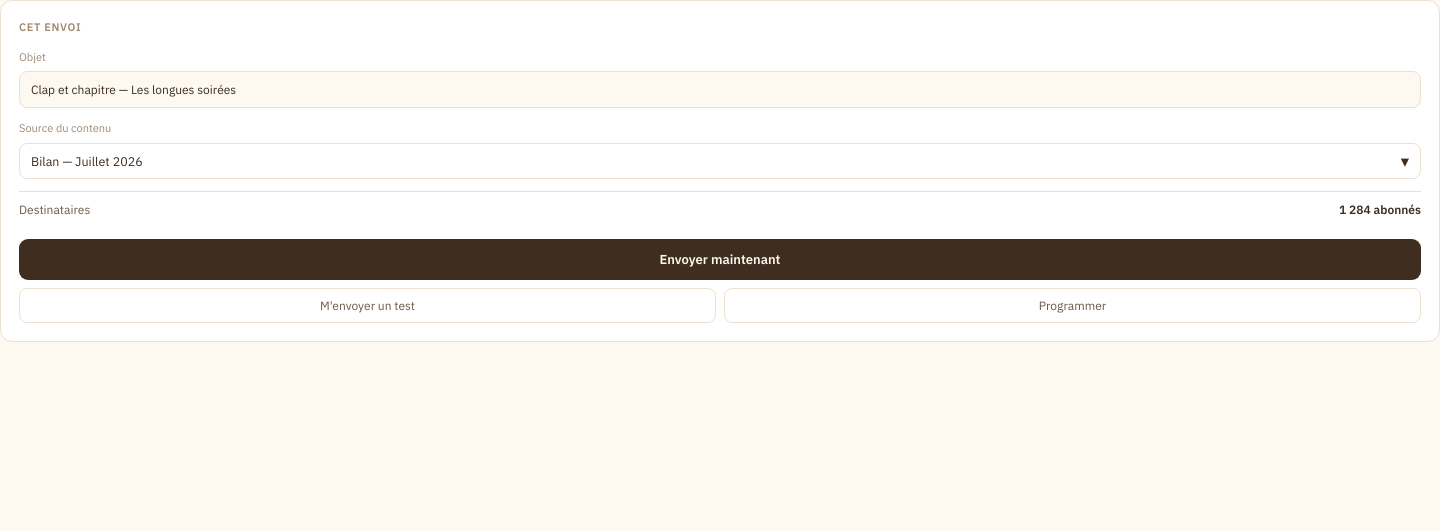
AN-3 newsletter panels › surfaces a server-side test error once the test form is open
Click the button "M'envoyer un test" at (368, 306), box [19,288,716,323]
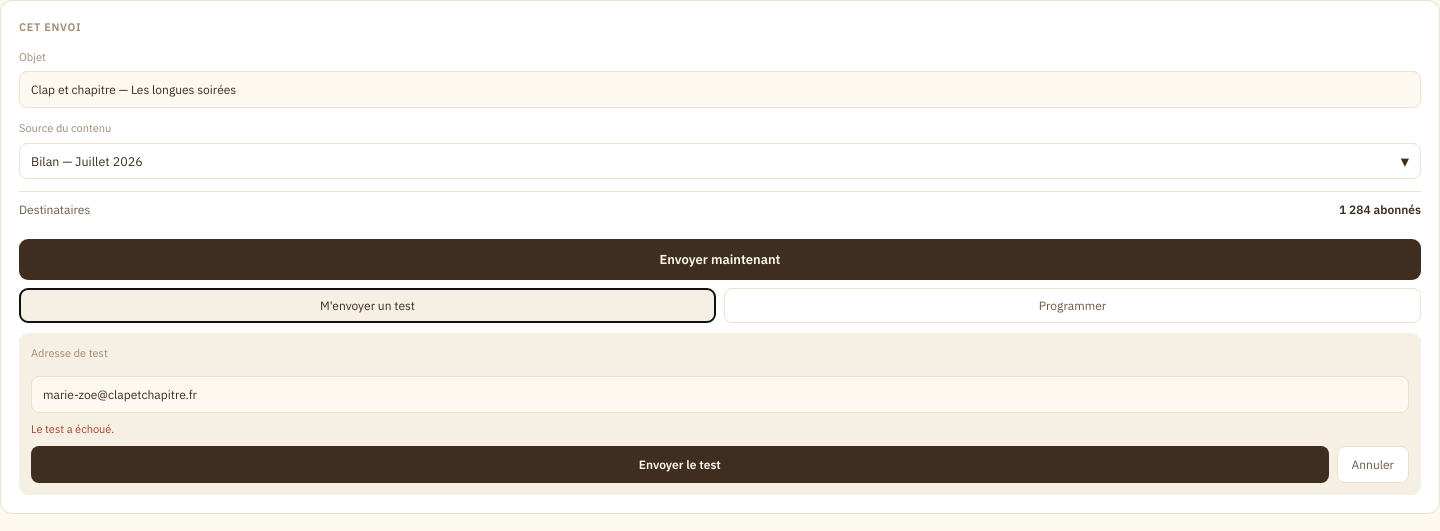
Result: the text "Le test a échoué." is shown at [31,422,114,436]
